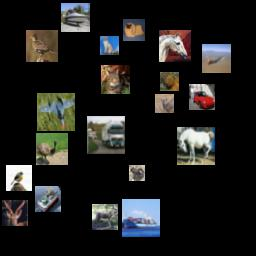airplane: (37, 93, 75, 131), (202, 44, 231, 73)
automobile: (189, 84, 215, 110)
bird: (26, 30, 58, 62), (36, 133, 68, 165), (6, 165, 32, 191)
cat: (101, 65, 130, 94), (100, 36, 119, 55), (160, 72, 179, 91)
deer: (2, 200, 28, 226), (92, 204, 118, 230), (155, 94, 174, 113)
dog: (123, 19, 145, 41)
frog: (129, 165, 145, 181)
ship: (122, 199, 160, 237), (61, 3, 90, 32), (35, 186, 61, 212)
truck: (87, 116, 125, 154)
